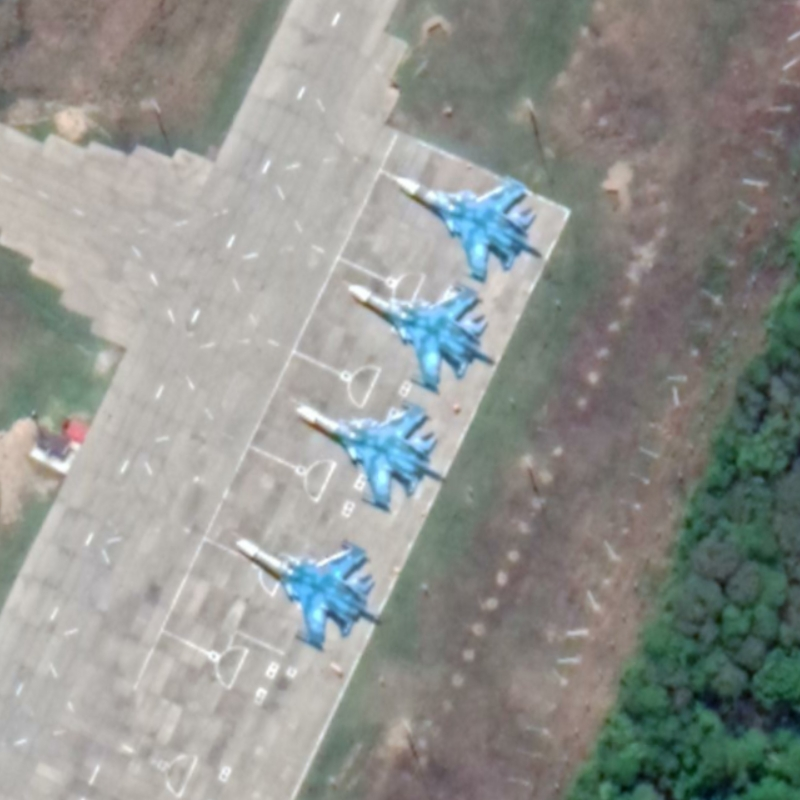A19: (295, 397, 449, 511), (234, 536, 385, 650), (346, 278, 497, 391), (393, 173, 543, 283)
